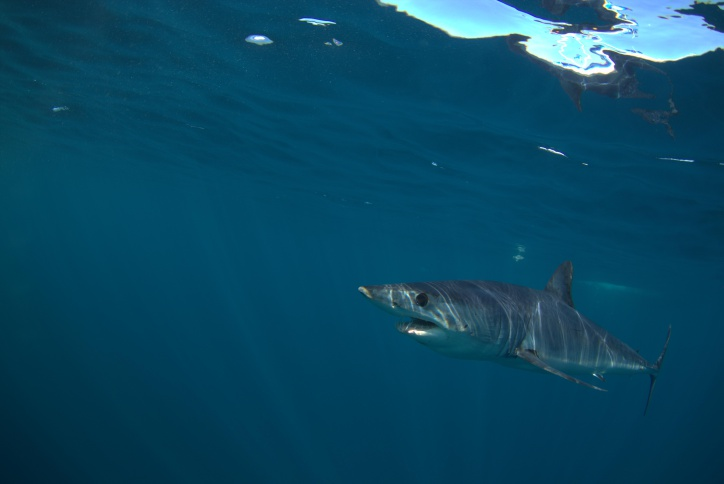Mako: (343, 252, 687, 424)
